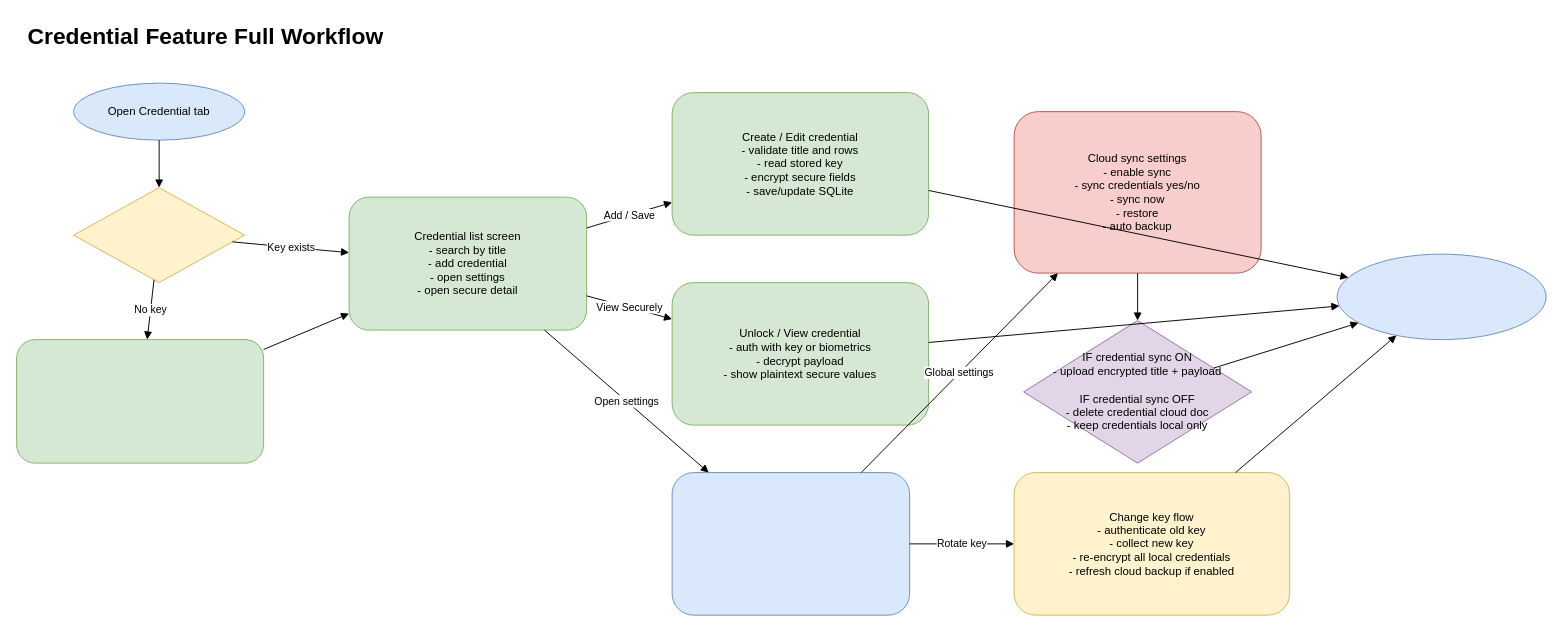
The diagram is 1563 pixels wide and 632 high, and some of its shapes have lost their labels. Here are the shapes that lost their labels. From the top down, the centre of each, then its label:
At (x=159, y=235): "Check secure storage for encryption key".
At (x=1441, y=296): "Stable operating state local credentials available cloud optional".
At (x=140, y=401): "Key setup dialog - require key - require confirmation - save to secure storage".
At (x=790, y=543): "Credential settings - biometric toggle - change key - import/export - delete all".
